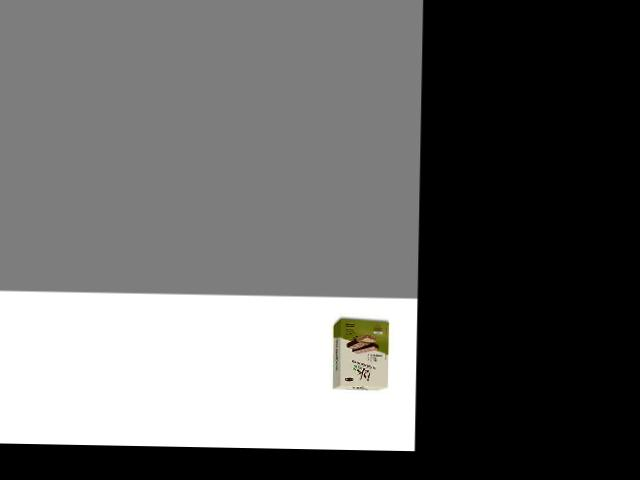chocolate: (328, 316, 390, 391)
